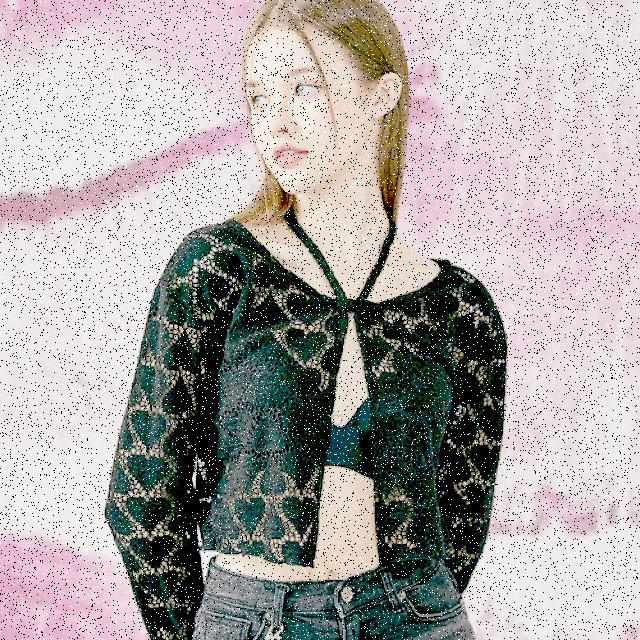dress: (104, 222, 511, 636)
